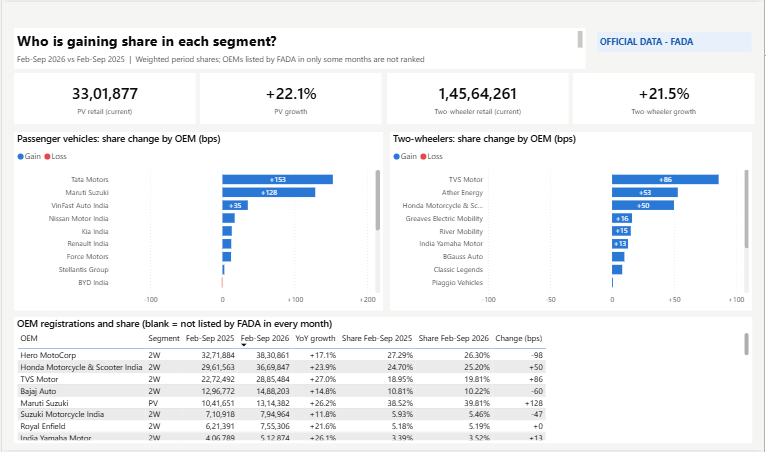

The dashboard page shown, as its layout file describes it:
{"tool":"powerbi","page":{"name":"OEM & Market Share","canvas":[1280,720],"ordinal":1},"visuals":[{"type":"textbox","box":[20,10,960,40],"z":1000},{"type":"textbox","box":[20,48,960,30],"z":2000},{"type":"textbox","box":[1000,16,260,34],"z":3000},{"type":"card","fields":{"Values":["_Measures.Market Registrations CP"]},"box":[20,86,305,86],"z":4000},{"type":"card","fields":{"Values":["_Measures.Market YoY Growth % (Period)"]},"box":[333,86,305,86],"z":5000},{"type":"card","fields":{"Values":["_Measures.Market Registrations CP"]},"box":[646,86,305,86],"z":6000},{"type":"card","fields":{"Values":["_Measures.Market YoY Growth % (Period)"]},"box":[959,86,305,86],"z":7000},{"type":"barChart","title":"Passenger vehicles: share change by OEM (bps)","fields":{"Category":["DimOEM.OEMName"],"Y":["_Measures.Share Gain bps (Complete Coverage)","_Measures.Share Loss bps (Complete Coverage)"]},"box":[20,184,620,300],"z":8000},{"type":"barChart","title":"Two-wheelers: share change by OEM (bps)","fields":{"Category":["DimOEM.OEMName"],"Y":["_Measures.Share Gain bps (Complete Coverage)","_Measures.Share Loss bps (Complete Coverage)"]},"box":[652,184,608,300],"z":9000},{"type":"tableEx","title":"OEM registrations and share (blank = not listed by FADA in every month)","fields":{"Values":["DimOEM.OEMName","DimVehicleSegment.SegmentCode","_Measures.Registrations PP","_Measures.Registrations CP","_Measures.YoY Growth % (Complete Coverage)","_Measures.Market Share PP % (Complete Coverage)","_Measures.Market Share CP % (Complete Coverage)","_Measures.Share Change bps (Complete Coverage)"]},"box":[20,496,1240,212],"z":10000}]}

Visuals, with their boxes on the page's 1280x720 design canvas (x1, y1, x2, y2). These are canvas units, not pixel positions in the 766x452 screenshot, which may show the page scaled, cropped or inside an application window:
textbox: box=[20, 10, 980, 50]
textbox: box=[20, 48, 980, 78]
textbox: box=[1000, 16, 1260, 50]
card - _Measures.Market Registrations CP: box=[20, 86, 325, 172]
card - _Measures.Market YoY Growth % (Period): box=[333, 86, 638, 172]
card - _Measures.Market Registrations CP: box=[646, 86, 951, 172]
card - _Measures.Market YoY Growth % (Period): box=[959, 86, 1264, 172]
"Passenger vehicles: share change by OEM (bps)" barChart: box=[20, 184, 640, 484]
"Two-wheelers: share change by OEM (bps)" barChart: box=[652, 184, 1260, 484]
"OEM registrations and share (blank = not listed by FADA in every month)" tableEx: box=[20, 496, 1260, 708]
